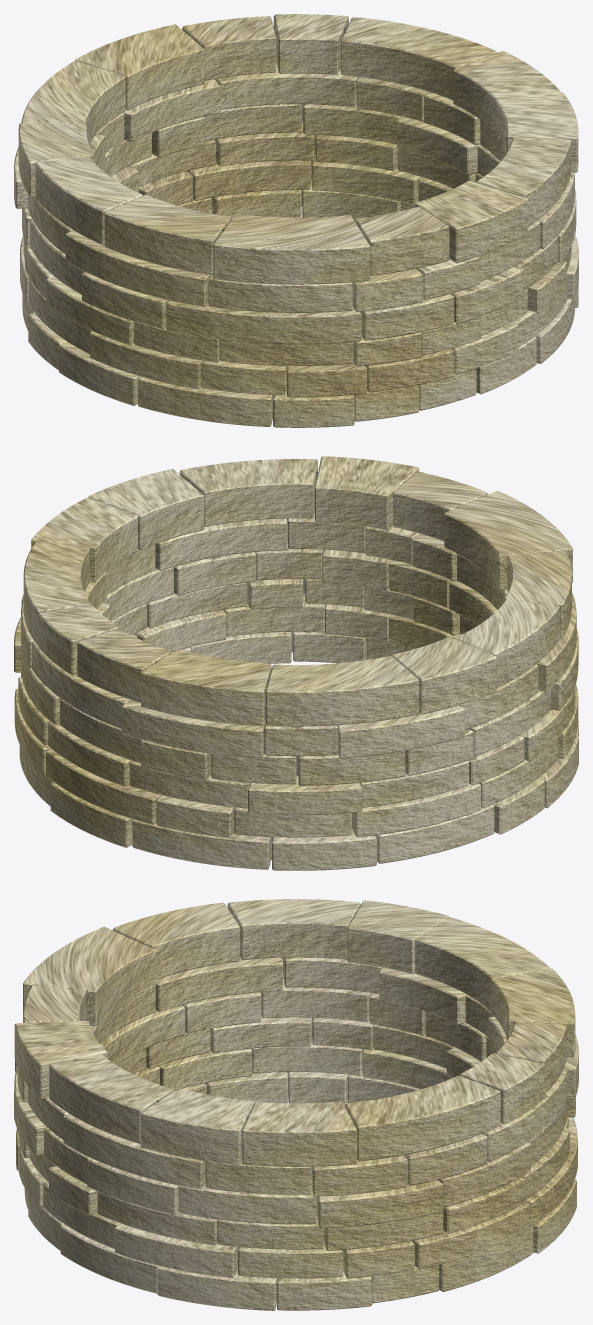
The model's file is tower-segment-1.glb.
The picture shows the model from 3 angles, top to bottom: view 1: azimuth 30°, elevation 25°; view 2: azimuth 150°, elevation 25°; view 3: azimuth 270°, elevation 25°; orthographic projection.
Visible parts, largest first — view 1: bricks; view 2: bricks; view 3: bricks.
Boxes of the visible parts, x1,y1,x2,y2 form: bricks: (14,14,578,427); bricks: (14,456,578,870); bricks: (14,899,578,1310).
Size of the model in its own units: 2 by 0.7084 by 2.
2 materials, 2 textured.
